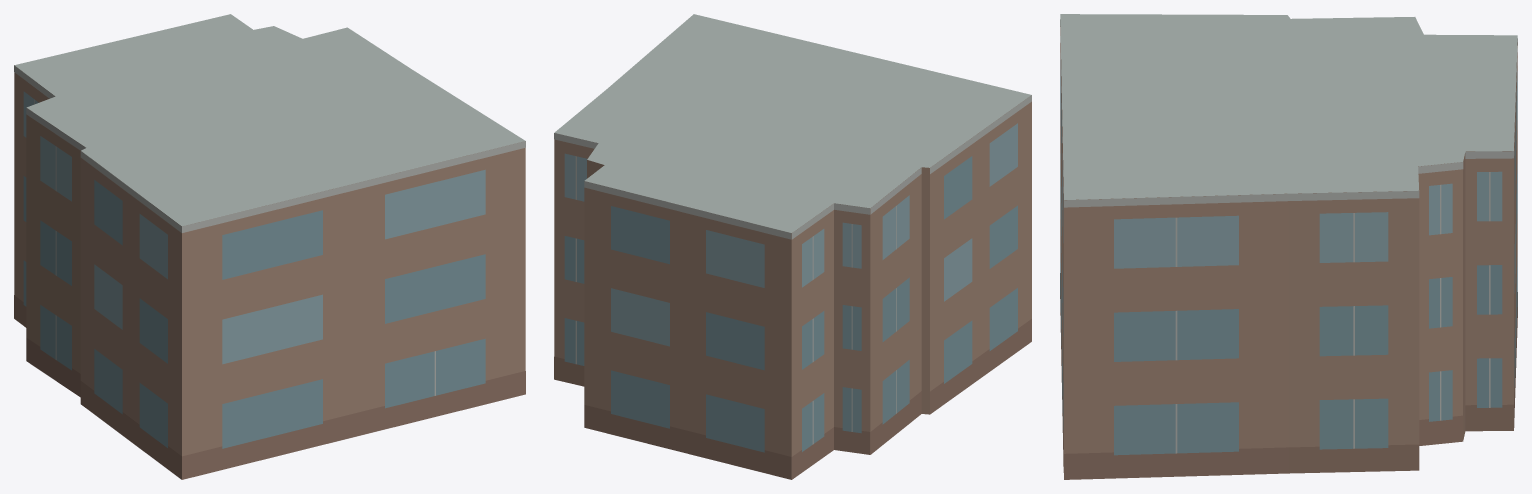
Rendered from survey-upis-32804738.glb.
The picture shows the model from 3 angles, left to right: view 1: azimuth 30°, elevation 25°; view 2: azimuth 150°, elevation 25°; view 3: azimuth 270°, elevation 25°; orthographic projection. The views are drawn at different scales.
Parts seen in each view (by area): view 1: survey-upis-32804738.tmp; view 2: survey-upis-32804738.tmp; view 3: survey-upis-32804738.tmp.
Part boxes in pixels (bbox=[...]): survey-upis-32804738.tmp: bbox=[14, 14, 525, 479]; survey-upis-32804738.tmp: bbox=[554, 14, 1031, 479]; survey-upis-32804738.tmp: bbox=[1060, 14, 1517, 479].
Size of the model in its own units: 13.07 by 9.15 by 13.57.
